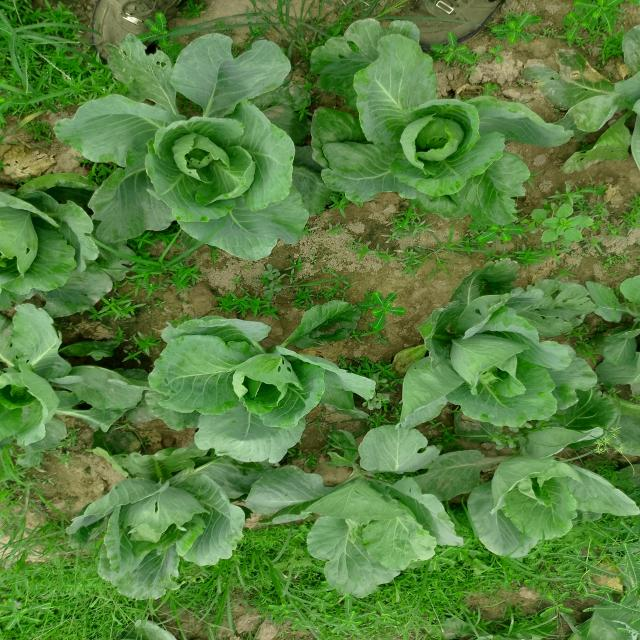Cabbage: (278, 0, 569, 254), (78, 21, 369, 258), (388, 294, 609, 451), (75, 455, 313, 580), (313, 436, 496, 588), (159, 318, 361, 454), (461, 431, 640, 568), (0, 170, 144, 318), (0, 311, 119, 464)
